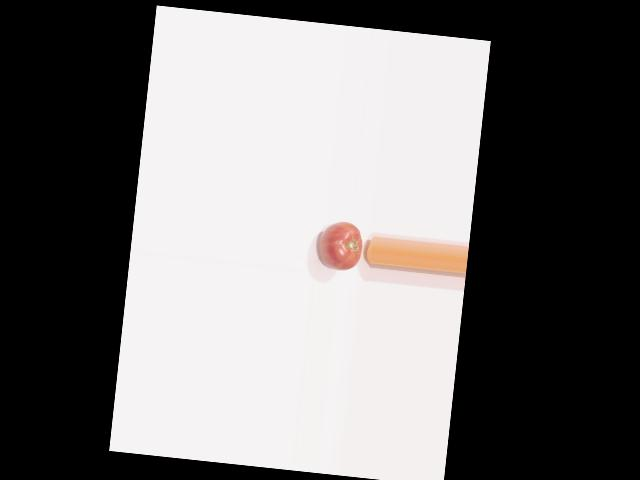tomato: (317, 219, 364, 271)
